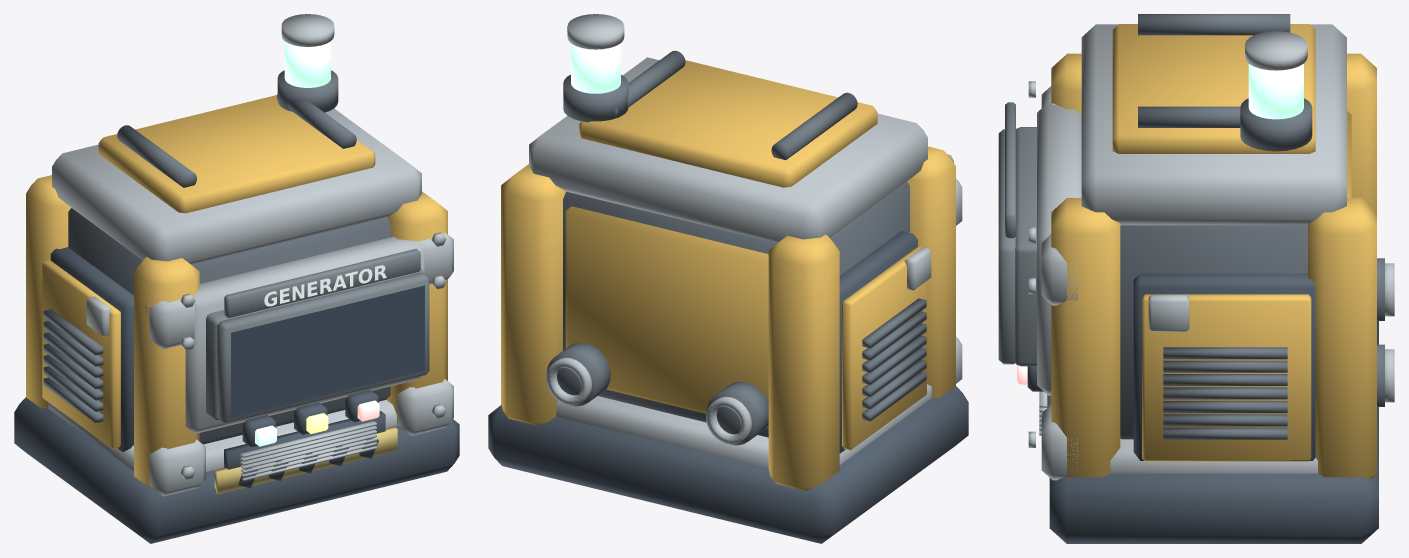
File: generator_enhanced.glb
3 renders of one model, left to right at view 1: azimuth 30°, elevation 25°; view 2: azimuth 150°, elevation 25°; view 3: azimuth 270°, elevation 25°, orthographic. The views are drawn at different scales.
Visible parts, largest first — view 1: TopCap_steel_legacy_10, Base_black_legacy_0, Frame_orange_legacy_4, RoofPanel_orange_legacy_11, LiveViewSurface_glass, Housing_dark_legacy_2, CornerGuard_steel_legacy_5, DisplayFrame_steel_legacy_13, ServiceDoor_orange_legacy_7, LiveViewSurfaceFrame_frame, Detail_steel_legacy_24, SideVents_dark_legacy_8 (+13 smaller); view 2: Frame_orange_legacy_4, Armor_orange_legacy_3, Base_black_legacy_0, TopCap_steel_legacy_10, RoofPanel_orange_legacy_11, Housing_dark_legacy_2, ServiceDoor_orange_legacy_7, Skirt_steel_legacy_1, SideVents_dark_legacy_8, RearPort_dark_legacy_29, LiftRail_dark_legacy_12, SidePanel_black_legacy_6 (+6 smaller); view 3: Frame_orange_legacy_4, TopCap_steel_legacy_10, Base_black_legacy_0, ServiceDoor_orange_legacy_7, RoofPanel_orange_legacy_11, Housing_dark_legacy_2, SideVents_dark_legacy_8, DisplayFrame_steel_legacy_13, SidePanel_black_legacy_6, LiftRail_dark_legacy_12, ScreenMount_frame, CornerGuard_steel_legacy_5 (+10 smaller).
Boxes of the visible parts, <box> form: TopCap_steel_legacy_10: <box>52,108,421,264</box>; Base_black_legacy_0: <box>14,397,459,543</box>; Frame_orange_legacy_4: <box>26,175,447,491</box>; RoofPanel_orange_legacy_11: <box>98,95,375,213</box>; LiveViewSurface_glass: <box>231,285,424,417</box>; Housing_dark_legacy_2: <box>68,208,390,444</box>; CornerGuard_steel_legacy_5: <box>145,232,453,496</box>; DisplayFrame_steel_legacy_13: <box>185,236,424,433</box>; ServiceDoor_orange_legacy_7: <box>42,260,120,449</box>; LiveViewSurfaceFrame_frame: <box>217,272,429,423</box>; Detail_steel_legacy_24: <box>180,232,446,480</box>; SideVents_dark_legacy_8: <box>43,309,103,422</box>; Frame_orange_legacy_4: <box>501,146,955,490</box>; Armor_orange_legacy_3: <box>565,206,768,428</box>; Base_black_legacy_0: <box>488,386,968,543</box>; TopCap_steel_legacy_10: <box>529,57,927,242</box>; RoofPanel_orange_legacy_11: <box>579,60,877,187</box>; Housing_dark_legacy_2: <box>563,182,909,437</box>; ServiceDoor_orange_legacy_7: <box>842,246,926,450</box>; Skirt_steel_legacy_1: <box>556,384,931,468</box>; SideVents_dark_legacy_8: <box>862,298,926,421</box>; RearPort_dark_legacy_29: <box>547,342,768,445</box>; LiftRail_dark_legacy_12: <box>615,50,857,160</box>; SidePanel_black_legacy_6: <box>839,231,917,453</box>; Frame_orange_legacy_4: <box>1051,53,1376,478</box>; TopCap_steel_legacy_10: <box>1081,24,1346,225</box>; Base_black_legacy_0: <box>1049,321,1378,543</box>; ServiceDoor_orange_legacy_7: <box>1142,294,1311,461</box>; RoofPanel_orange_legacy_11: <box>1112,24,1315,153</box>; Housing_dark_legacy_2: <box>1120,225,1307,439</box>; SideVents_dark_legacy_8: <box>1163,347,1287,439</box>; DisplayFrame_steel_legacy_13: <box>1037,102,1081,395</box>; SidePanel_black_legacy_6: <box>1133,273,1315,460</box>; LiftRail_dark_legacy_12: <box>1138,14,1290,127</box>; ScreenMount_frame: <box>1015,127,1036,366</box>; CornerGuard_steel_legacy_5: <box>1041,86,1077,480</box>.
Bounding box in the file's own units: 1.43 × 1.65 × 1.27.
